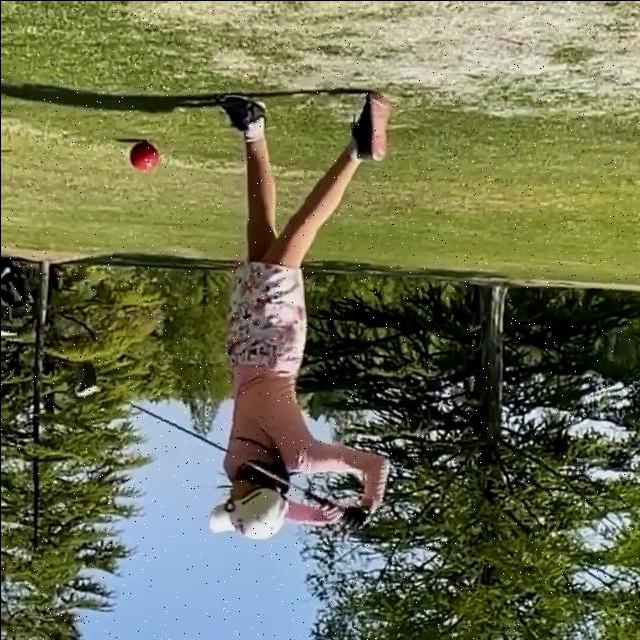ClubHandle: (73, 362, 371, 528)
ClubHead: (73, 363, 101, 397)
